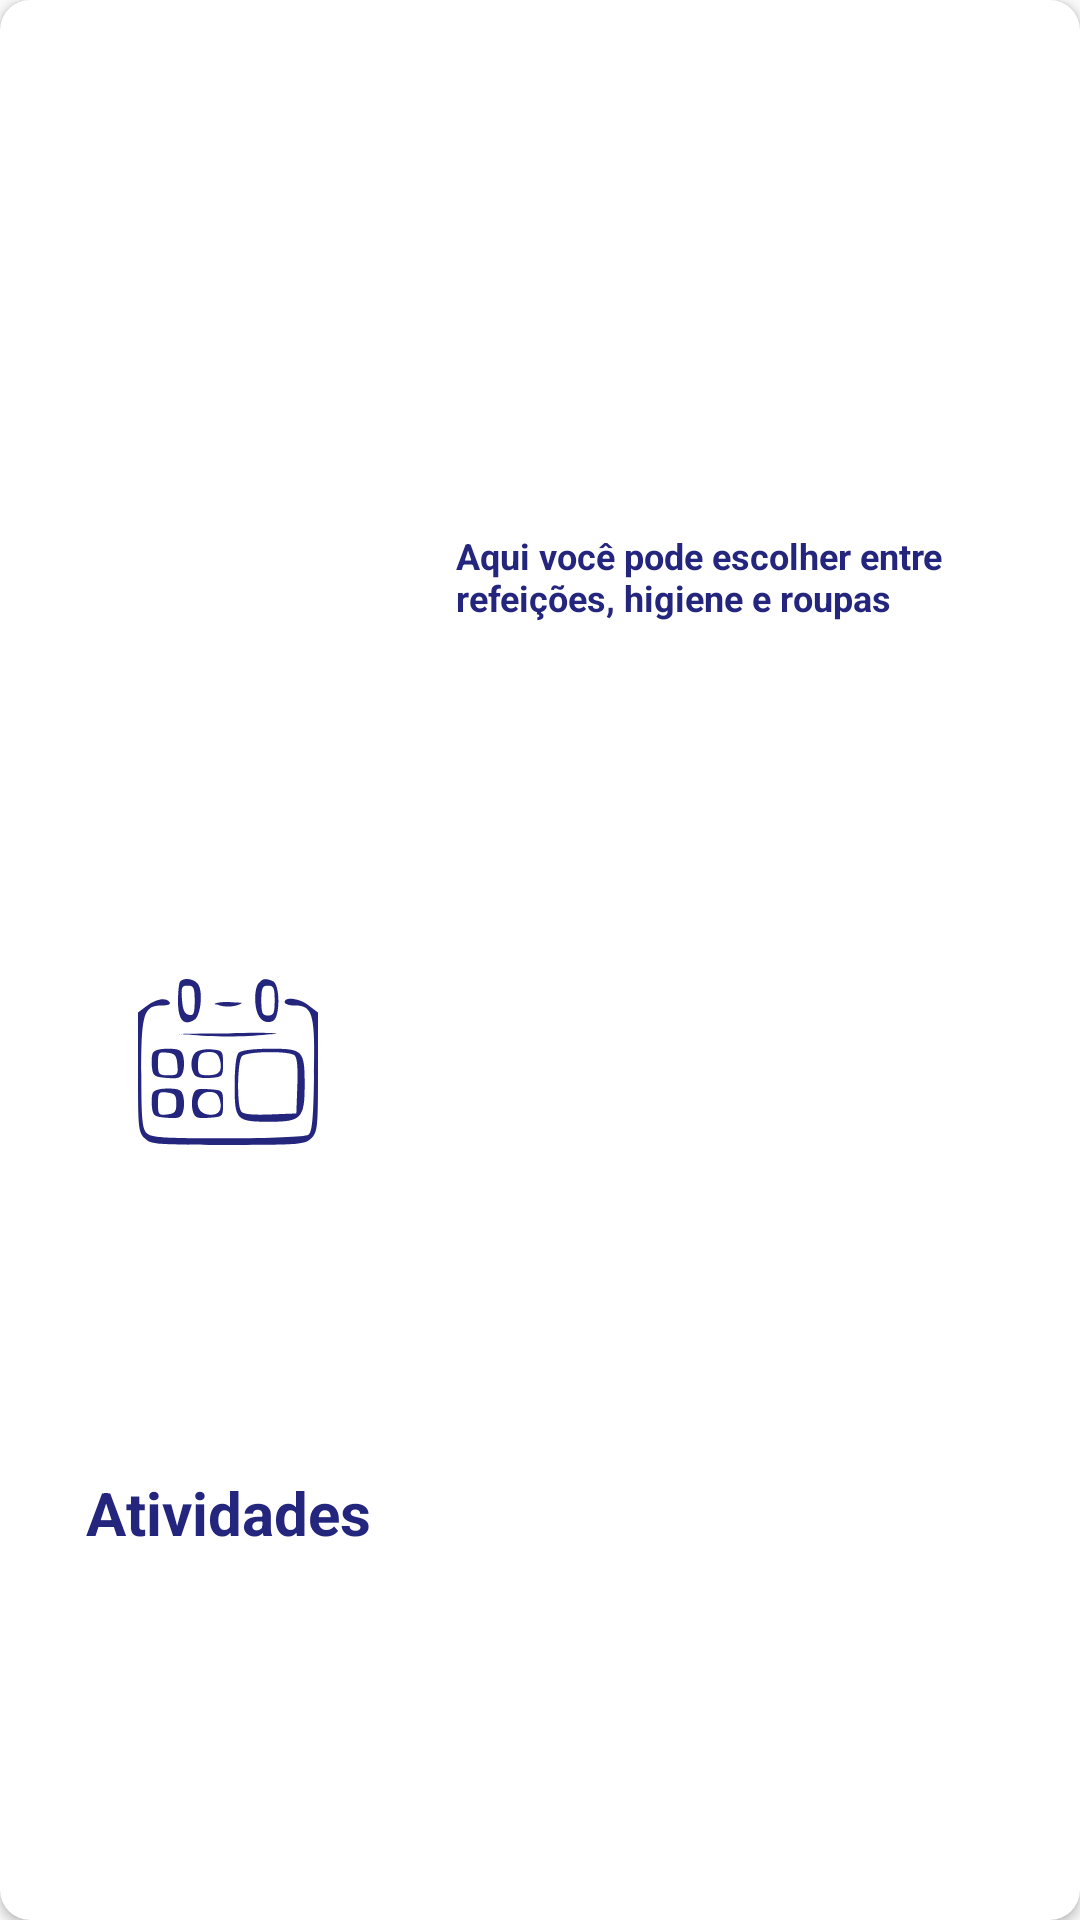

Icons on this 1080×1920 Android screen, each with its box as (x1, y1, x2, y2):
ícone da opção: (138, 979, 318, 1145)
